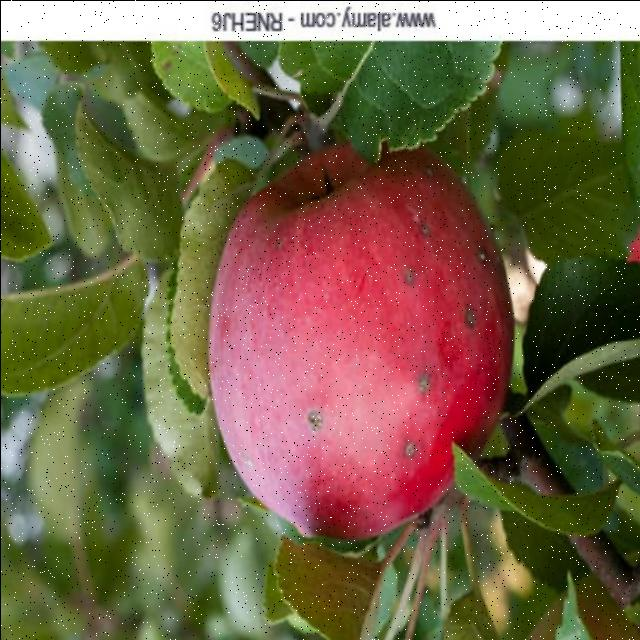SCAB: (166, 139, 532, 552)
